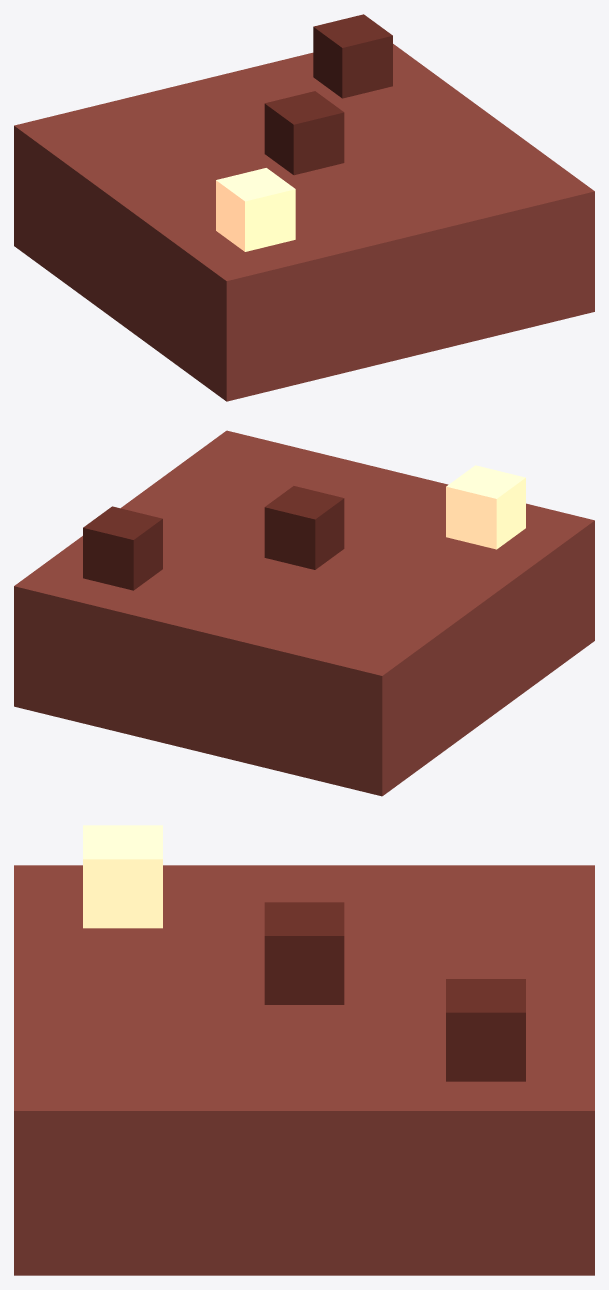
File: static.glb
3 renders of one model, top to bottom at view 1: azimuth 30°, elevation 25°; view 2: azimuth 150°, elevation 25°; view 3: azimuth 270°, elevation 25°, orthographic. The views are drawn at different scales.
Parts seen in each view (by area): view 1: Cube, Cube.002, Cube.003, Cube.001; view 2: Cube, Cube.002, Cube.003, Cube.001; view 3: Cube, Cube.002, Cube.001, Cube.003.
Boxes of the visible parts, x1=… form: Cube: x1=14, y1=44, x2=594, y2=401; Cube.002: x1=264, y1=91, x2=344, y2=175; Cube.003: x1=313, y1=14, x2=392, y2=98; Cube.001: x1=216, y1=168, x2=295, y2=251; Cube: x1=14, y1=430, x2=594, y2=796; Cube.002: x1=264, y1=486, x2=344, y2=569; Cube.003: x1=83, y1=506, x2=162, y2=590; Cube.001: x1=446, y1=465, x2=525, y2=549; Cube: x1=14, y1=865, x2=594, y2=1275; Cube.002: x1=264, y1=902, x2=344, y2=1004; Cube.001: x1=83, y1=825, x2=162, y2=928; Cube.003: x1=446, y1=979, x2=525, y2=1081.
Size of the model in its own units: 1.6 by 0.71 by 1.6.
